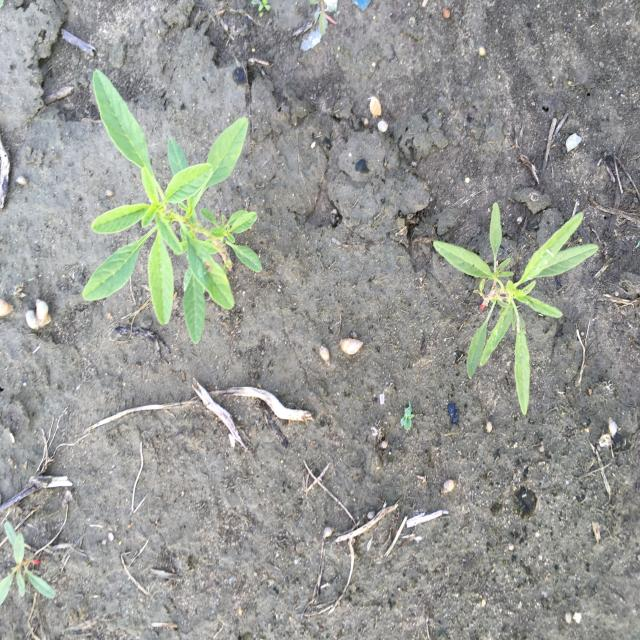Waterhemp: (80, 68, 265, 345), (431, 201, 601, 416)
